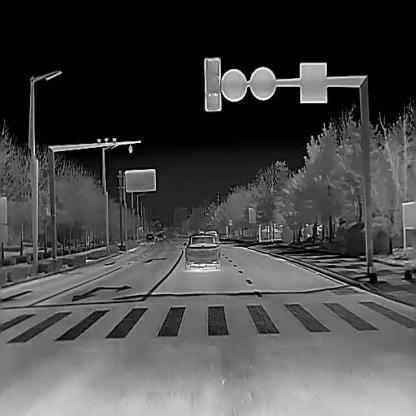car: (184, 233, 220, 270), (206, 229, 219, 245), (145, 233, 154, 242), (155, 233, 163, 242)
